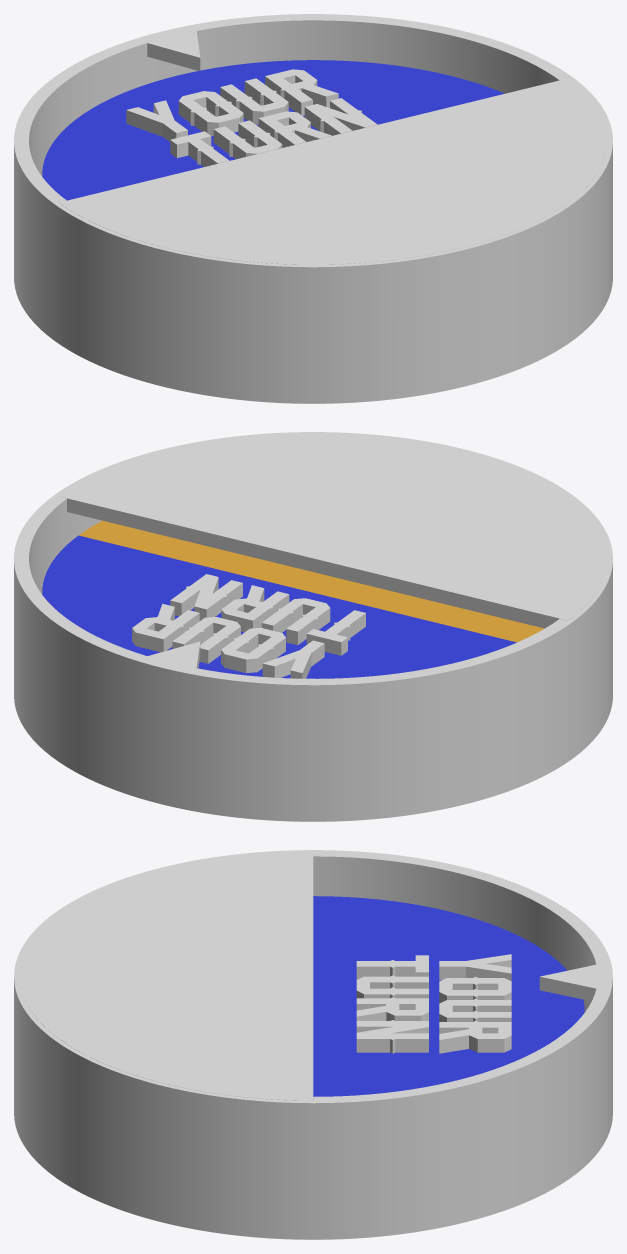
The model's file is TurnClock2.fbx.
3 views of the same model, one above another, from view 1: azimuth 30°, elevation 25°; view 2: azimuth 150°, elevation 25°; view 3: azimuth 270°, elevation 25° (orthographic).
Parts seen in each view (by area): view 1: Cylinder, Circle.003, Inside, Text, Cube; view 2: Cylinder, Circle.003, Inside, Text, Cube; view 3: Cylinder, Circle.003, Inside, Text, Cube.
Part boxes in pixels (bbox=[...]): Cylinder: bbox=[14, 14, 612, 403]; Circle.003: bbox=[59, 78, 607, 264]; Inside: bbox=[42, 60, 504, 200]; Text: bbox=[126, 69, 377, 166]; Cube: bbox=[147, 31, 200, 71]; Cylinder: bbox=[14, 432, 612, 821]; Circle.003: bbox=[59, 434, 607, 628]; Inside: bbox=[42, 520, 544, 678]; Text: bbox=[132, 574, 365, 678]; Cube: bbox=[147, 641, 200, 668]; Cylinder: bbox=[14, 850, 612, 1239]; Circle.003: bbox=[19, 852, 313, 1100]; Inside: bbox=[313, 896, 584, 1096]; Text: bbox=[356, 954, 511, 1053]; Cube: bbox=[539, 964, 597, 1001].
Bounding box in the file's own units: 397 × 100 × 397.
